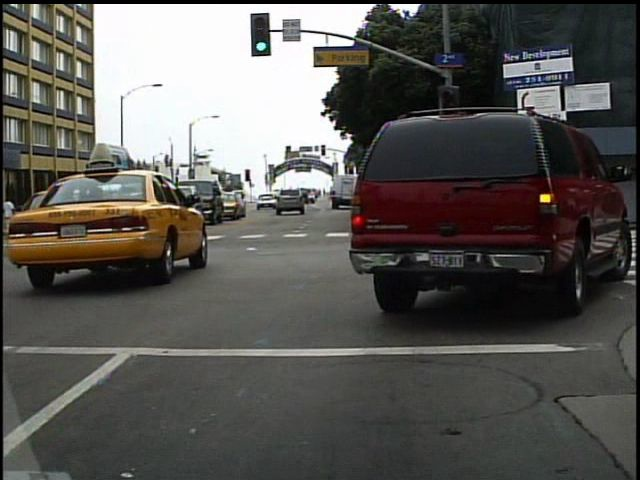person: (3, 192, 21, 233)
